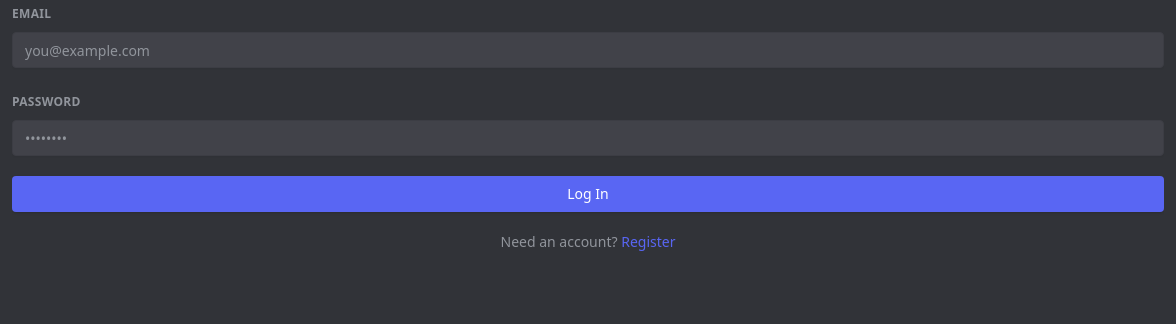
Test: LoginForm › shows error message on login failure
The width and height of the screenshot is (1176, 324).
In the field labelled "Email": {"x": 588, "y": 50} [12,32,1164,68], type "bad@test.com"
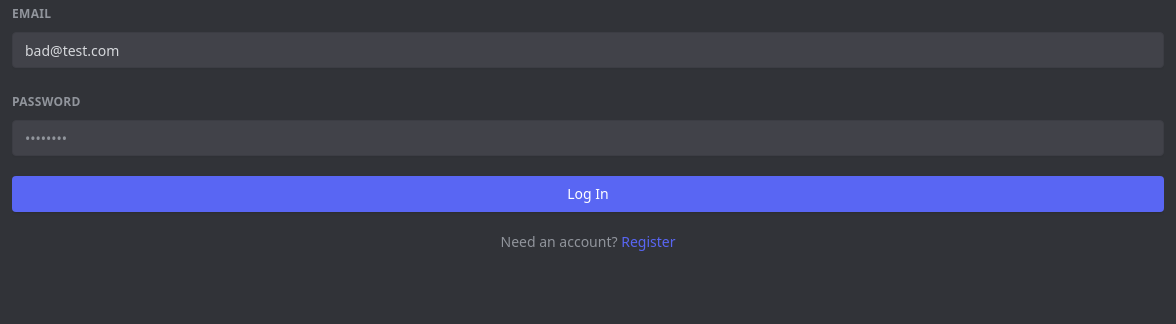
In the password field labelled "Password": {"x": 588, "y": 138} [12,120,1164,156], type "wrongpass"
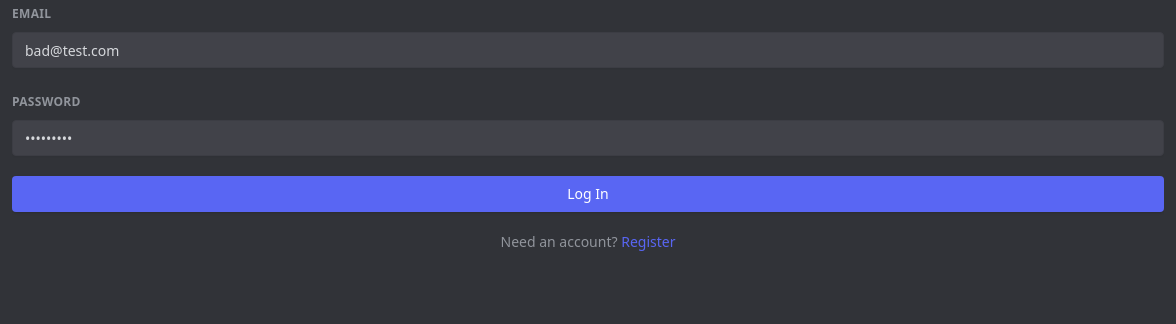
Click the button "Log In": {"x": 588, "y": 194} [12,176,1164,212]
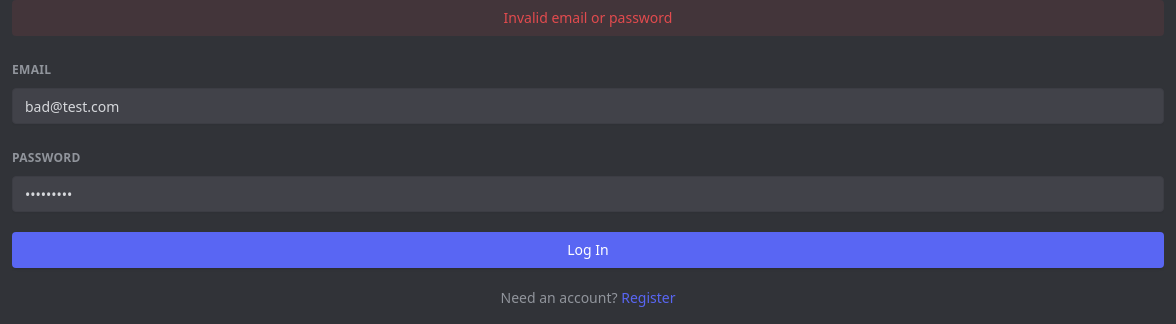
Expected: the text "Invalid email or password" is shown, [12,0,1164,36]
